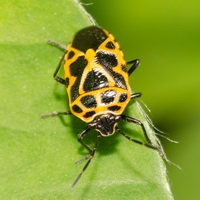insect: (41, 25, 180, 186)
